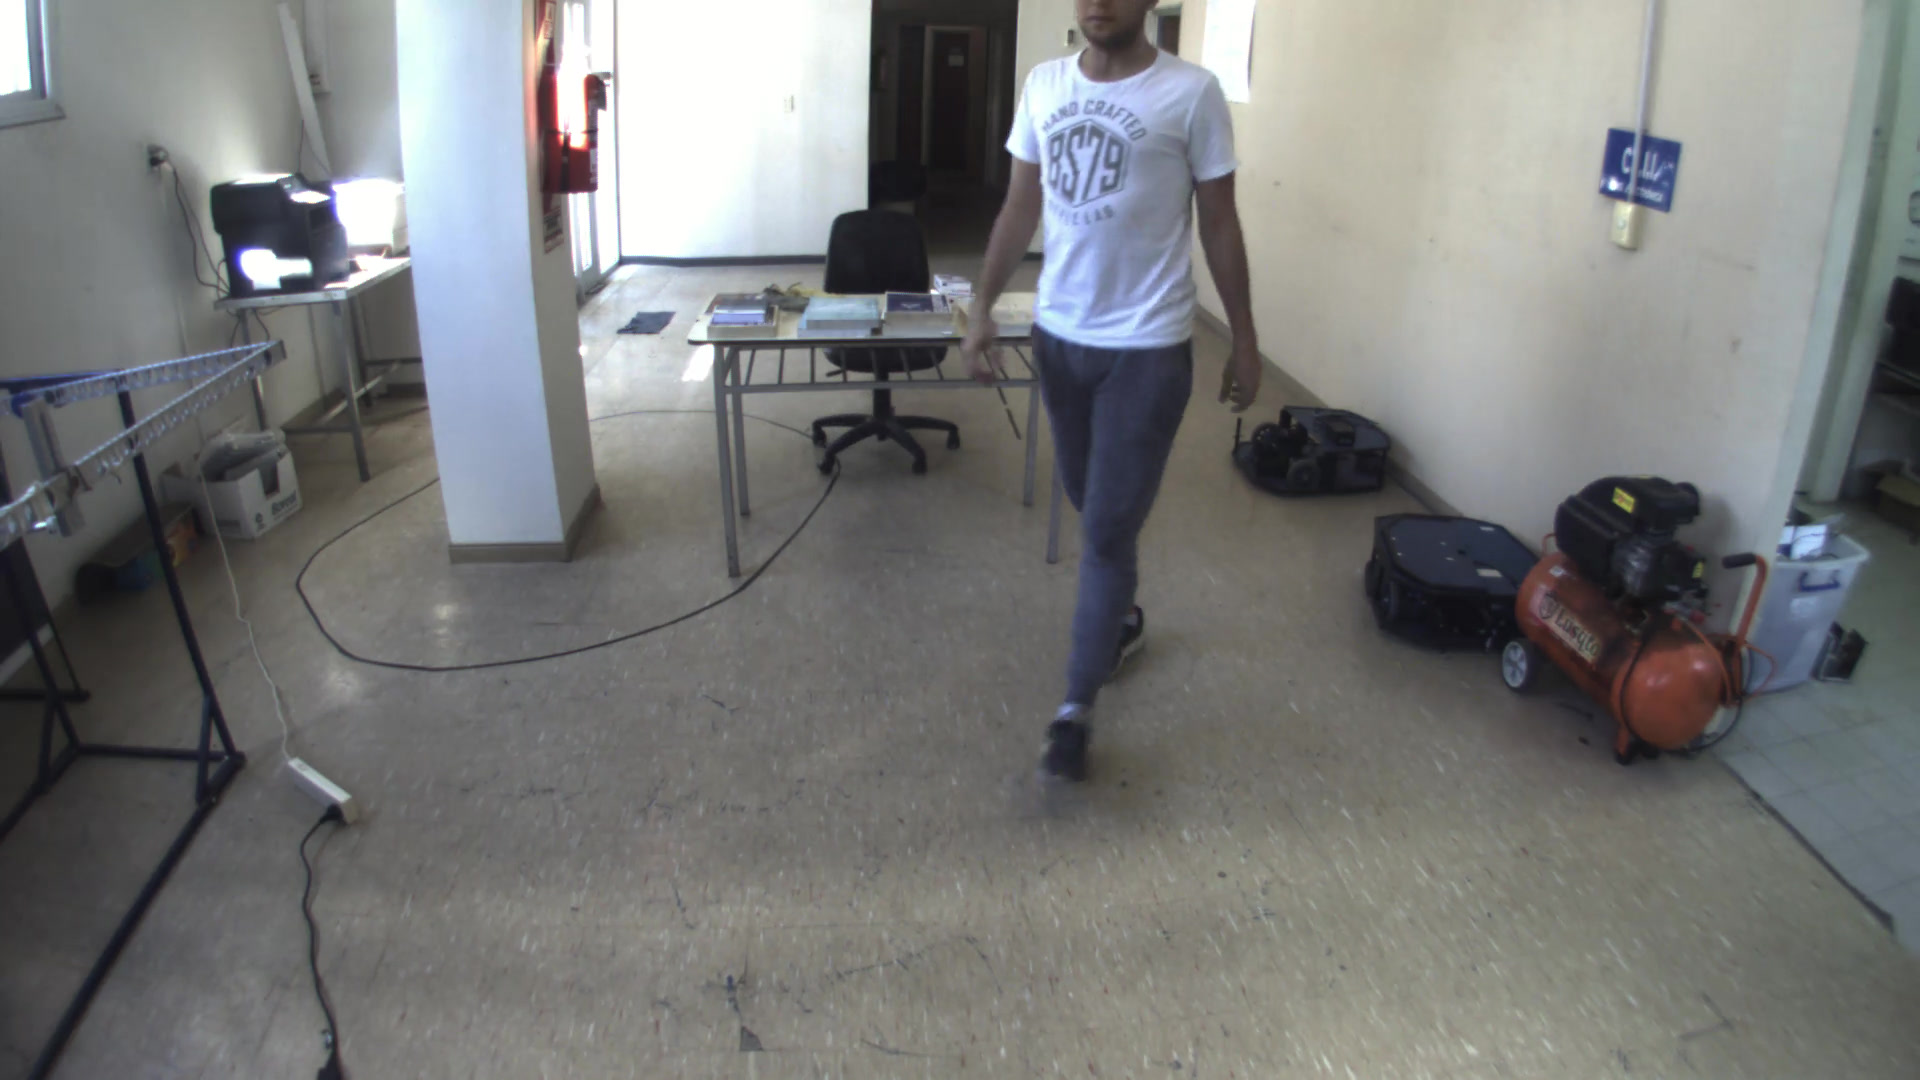hand: (938, 282, 1001, 382), (1220, 342, 1280, 415)
